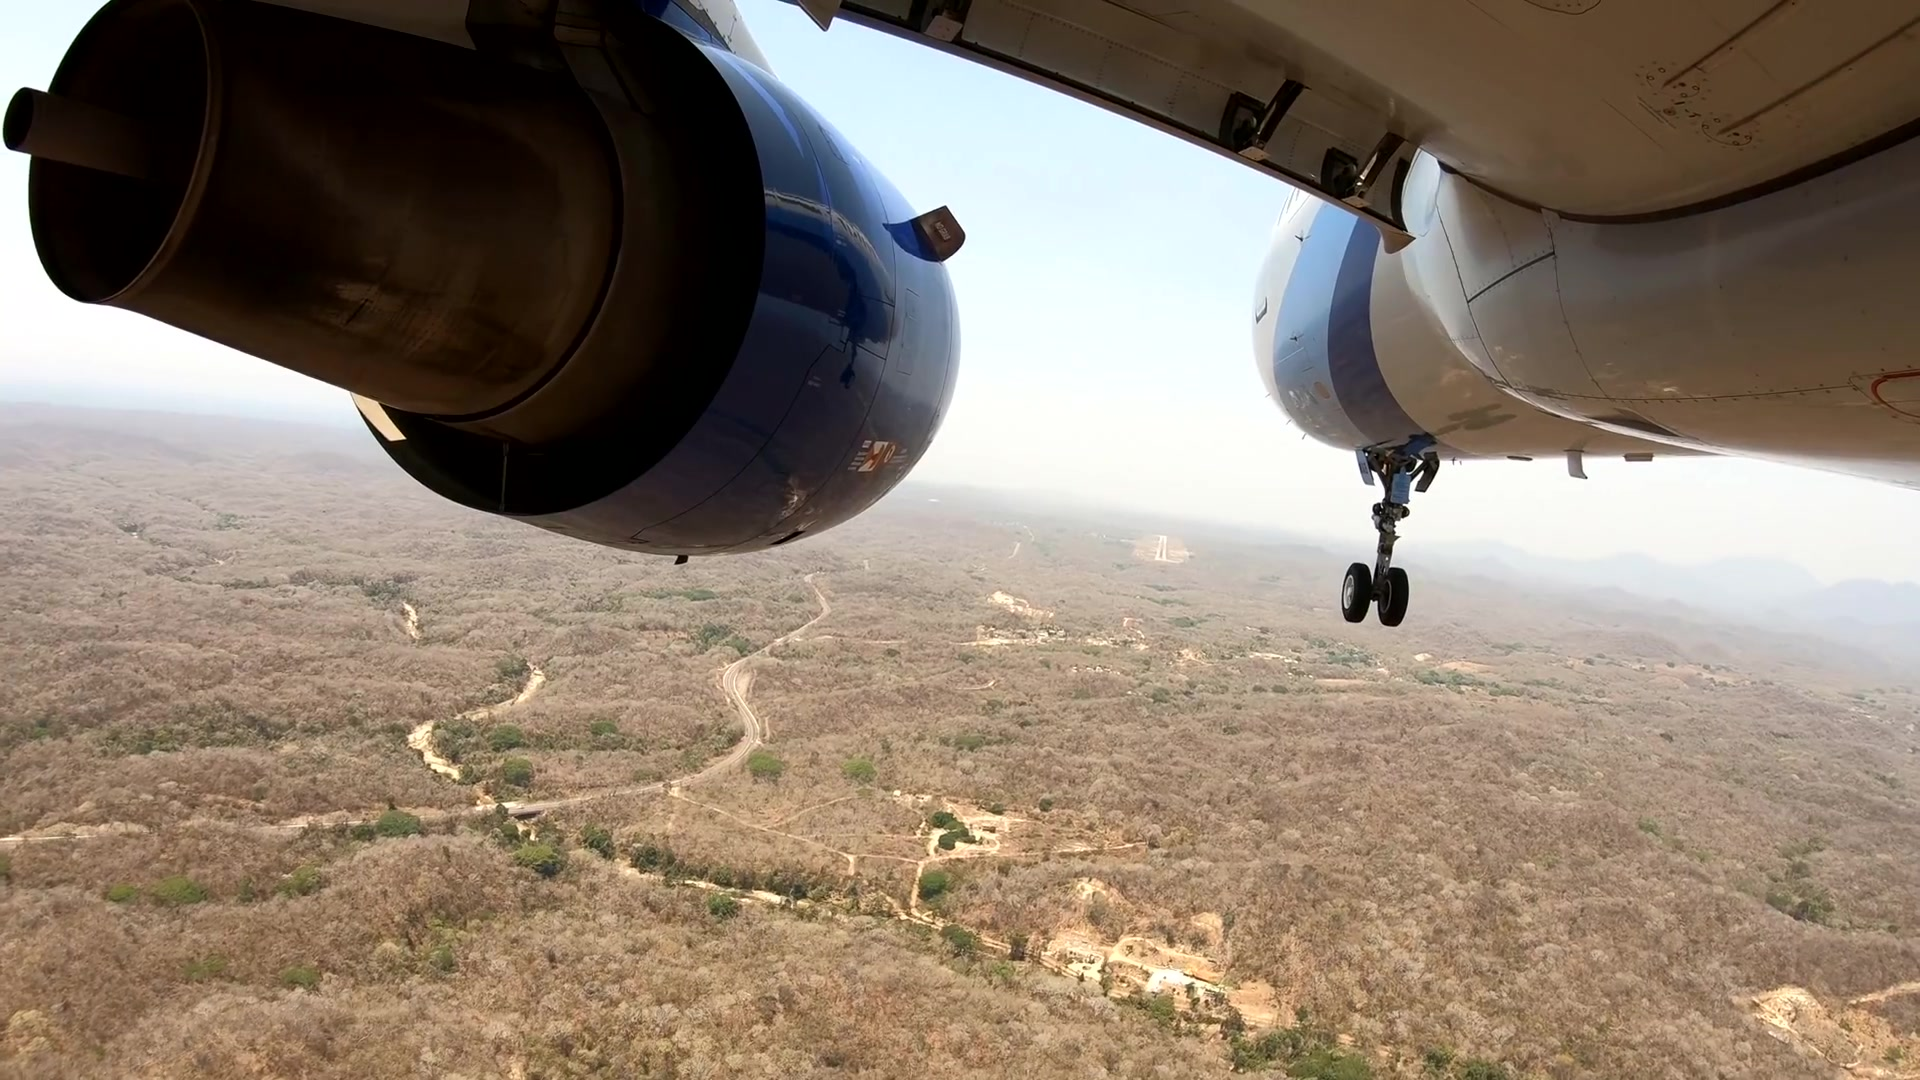runway: (1153, 533, 1172, 563)
